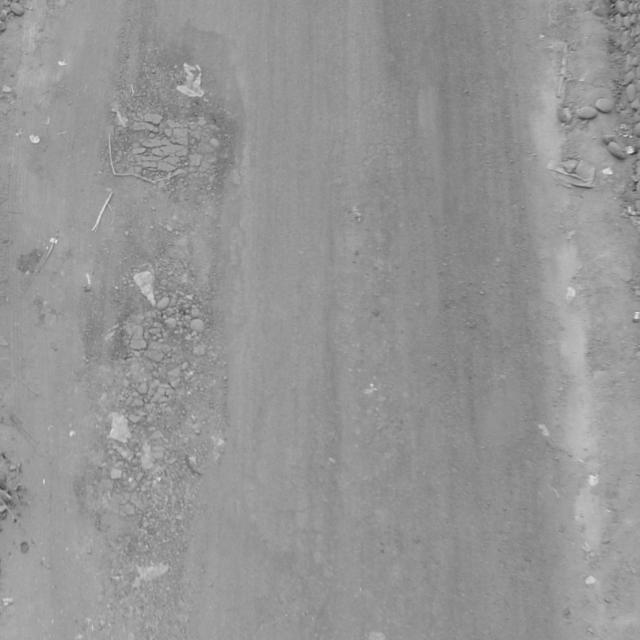BACHE: (87, 265, 227, 555), (100, 58, 239, 204)
